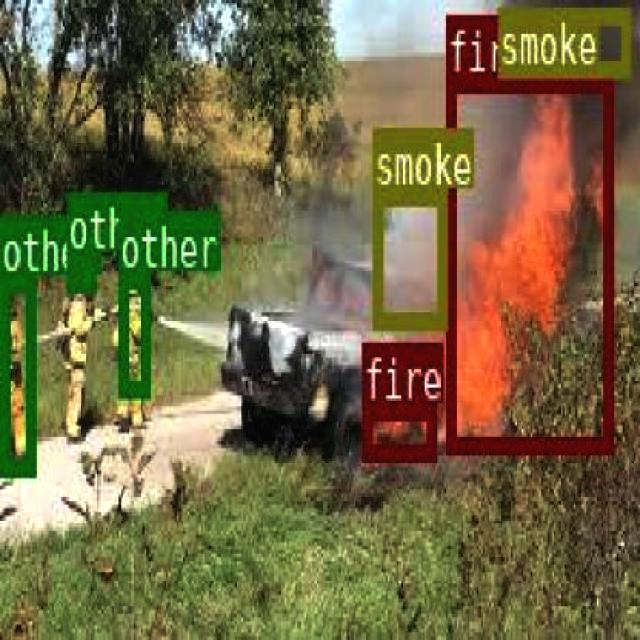fire: (444, 73, 610, 449), (360, 401, 436, 456)
smoke: (372, 186, 446, 325), (497, 4, 628, 74)
